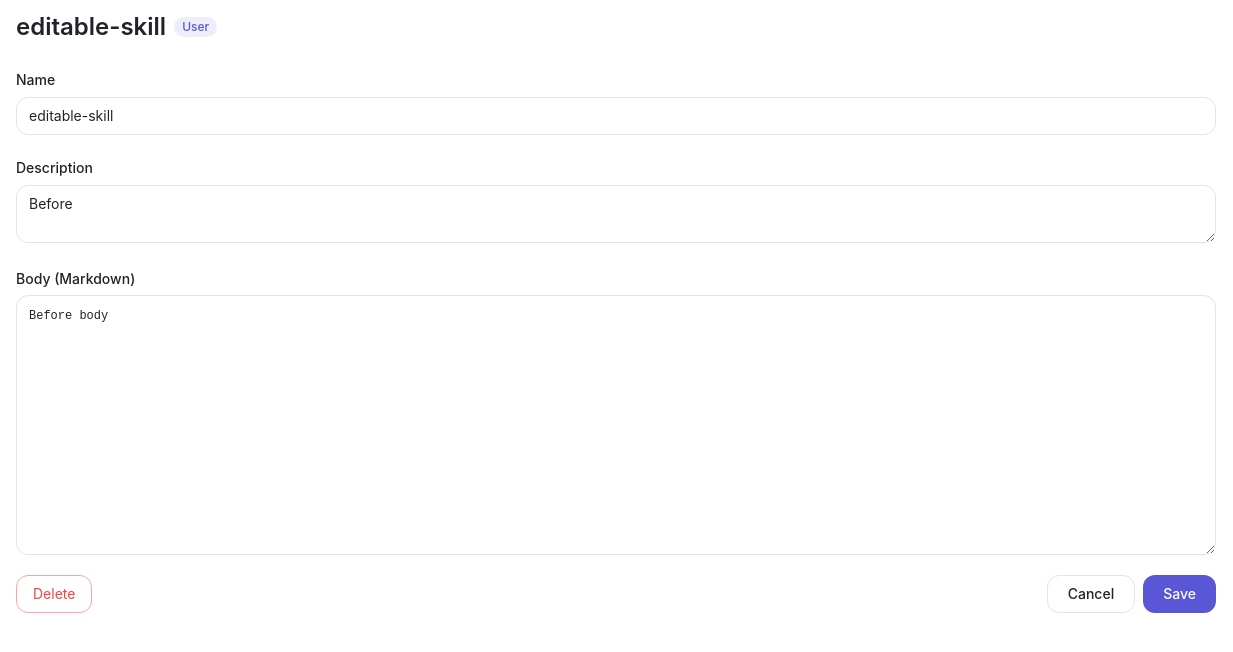
Skills settings › shows a validation message and skips saving when the edited skill name is invalid
Replace the text in the field with "test-skillaa11aa啵啵" at [616, 116], box [16, 97, 1216, 135]
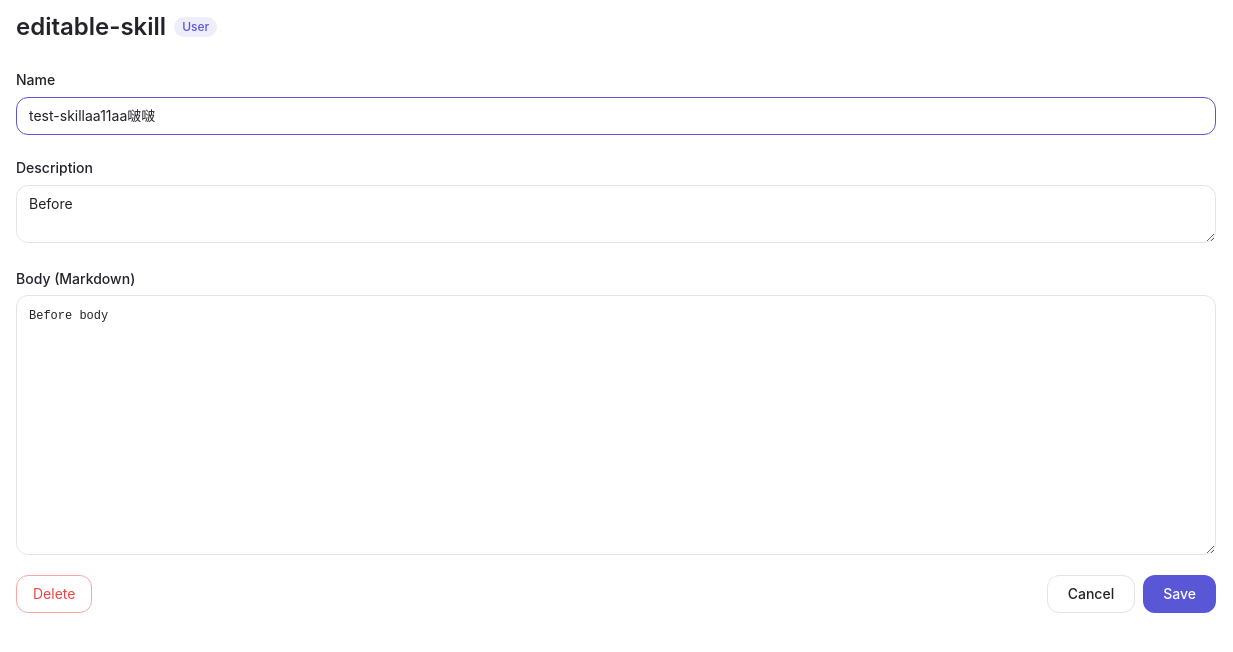
Click the button "Save" at [1180, 594], box [1143, 575, 1216, 613]
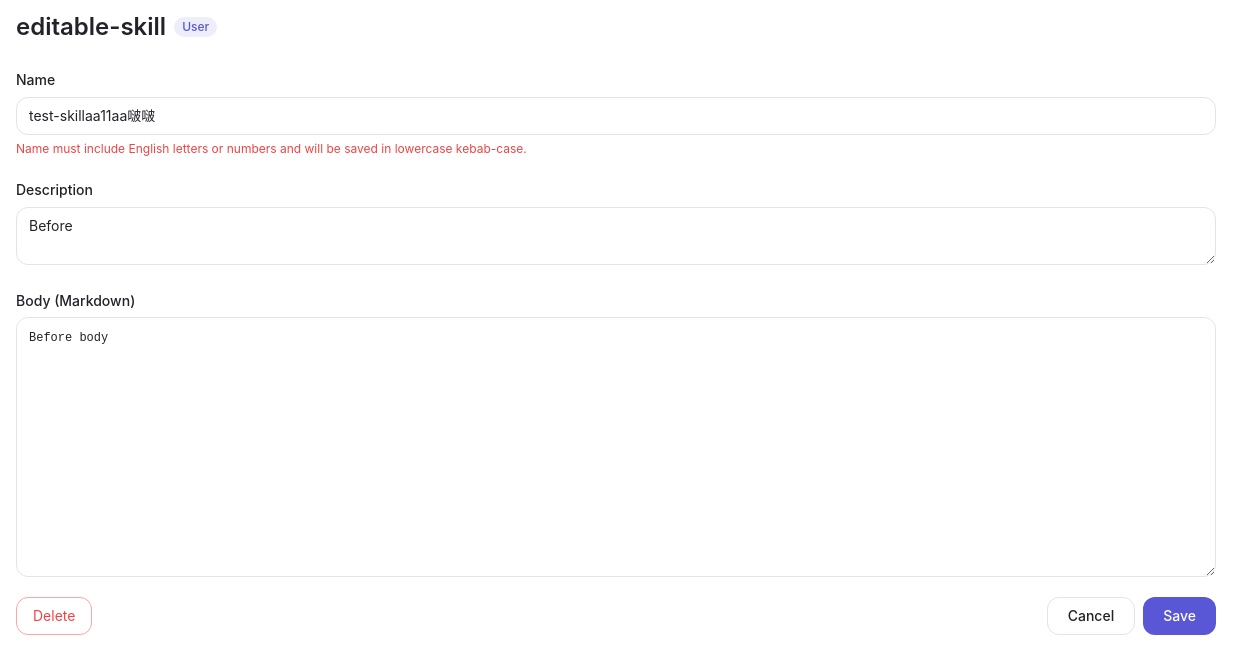
Expected: the text "Name must include English letters or numbers and will be saved in lowercase kebab-case." is shown, [16, 141, 527, 156]
